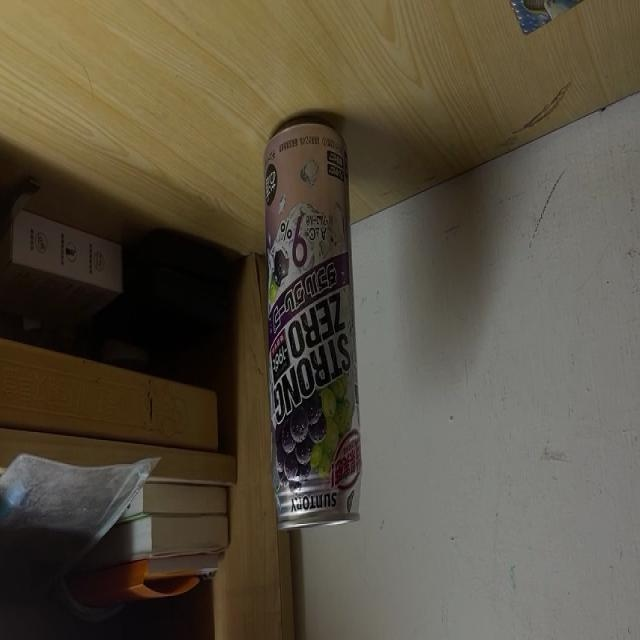Liquor: (263, 115, 361, 533)
